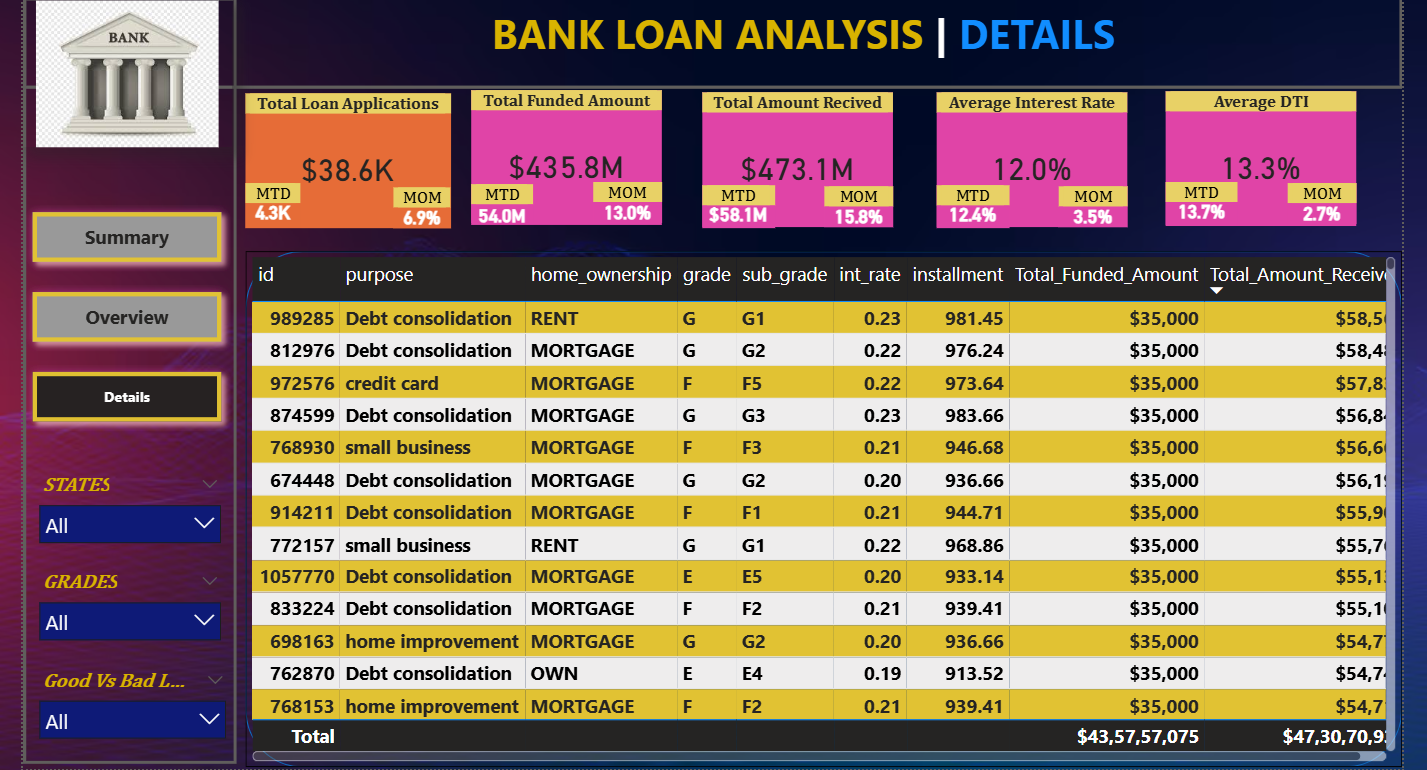

The dashboard page shown, as its layout file describes it:
{"tool":"powerbi","page":{"name":"Details","canvas":[1280,720],"ordinal":2},"visuals":[{"type":"actionButton","box":[0,0,1280,88.9],"z":0},{"type":"actionButton","box":[0,4,198.4,711.4],"z":1000},{"type":"textbox","box":[389,7,671,60],"z":2000},{"type":"card","title":"Total Loan Applications","fields":{"Values":["Good_Loan_%.Total_Loan_Applications"]},"box":[206.4,93.2,190.4,125.2],"z":3000},{"type":"card","title":"MTD","fields":{"Values":["Good_Loan_%.MTD_Loan_App"]},"box":[206.4,176.3,51.1,42.1],"z":4000},{"type":"card","title":"MOM","fields":{"Values":["Good_Loan_%.MOM_Loan_Applications"]},"box":[343.7,180.4,53.1,38.1],"z":5000},{"type":"card","title":"Total Funded Amount","fields":{"Values":["Good_Loan_%.Total_Funded_Amount"]},"box":[416,90,177,125],"z":6000},{"type":"card","title":"MTD","fields":{"Values":["Good_Loan_%.MTD_Funded_Amount"]},"box":[415.8,177.4,57.1,36.1],"z":7000},{"type":"card","title":"MOM","fields":{"Values":["Good_Loan_%.MOM_Total Funded_Amount"]},"box":[529,175,64,38],"z":8000},{"type":"card","title":"Total Amount Recived","fields":{"Values":["Good_Loan_%.Total_Amount_Received"]},"box":[630,92,177,125],"z":9000},{"type":"card","title":"MTD","fields":{"Values":["Good_Loan_%.MTD_Total_Amount_Recieved"]},"box":[630.2,178.4,67.1,40.1],"z":10000},{"type":"card","title":"MOM","fields":{"Values":["Good_Loan_%.MOM_Total_Amount_Recieved"]},"box":[743,179,64,38],"z":11000},{"type":"card","title":"Average Interest Rate","fields":{"Values":["Good_Loan_%.Average_interest_rate"]},"box":[848,92,177,125],"z":12000},{"type":"card","title":"MTD","fields":{"Values":["Good_Loan_%.MTD_Average_int_rate"]},"box":[847.7,178.4,67.1,40.1],"z":13000},{"type":"card","title":"MOM","fields":{"Values":["Good_Loan_%.MOM AVG int rate"]},"box":[961,179,64,38],"z":14000},{"type":"card","title":"Average DTI","fields":{"Values":["Good_Loan_%.Avarage_DTI"]},"box":[1060,91,177,125],"z":15000},{"type":"card","title":"MTD","fields":{"Values":["Good_Loan_%.MTD _AVARAGE_DTI"]},"box":[1060,175,67,40],"z":16000},{"type":"card","title":"MOM","fields":{"Values":["Good_Loan_%.MOM AVG DTI"]},"box":[1173,176,64,38],"z":17000},{"type":"shape","box":[206.4,239.5,1073.1,478.9],"z":18000},{"type":"slicer","fields":{"Values":["financial_loan.address_state"]},"box":[5,441.9,188.4,75.1],"z":19000},{"type":"slicer","fields":{"Values":["financial_loan.grade"]},"box":[5,532.1,188.4,75.1],"z":20000},{"type":"slicer","fields":{"Values":["financial_loan.Good Vs Bad Loan"]},"box":[5,623.2,193.4,79.2],"z":21000},{"type":"tableEx","fields":{"Values":["financial_loan.id","financial_loan.purpose","financial_loan.home_ownership","financial_loan.grade","financial_loan.sub_grade","financial_loan.int_rate","financial_loan.installment","Good_Loan_%.Total_Funded_Amount","Good_Loan_%.Total_Amount_Received"]},"box":[206.4,239.5,1073.1,478.9],"z":22000},{"type":"pageNavigator","box":[0,194.4,193.4,212.4],"z":23000},{"type":"image","box":[0,7,193.4,136.3],"z":24000}]}

Visuals, with their boxes on the page's 1280x720 design canvas (x1, y1, x2, y2). These are canvas units, not pixel positions in the 1427x770 screenshot, which may show the page scaled, cropped or inside an application window:
actionButton: [left=0, top=0, right=1280, bottom=89]
actionButton: [left=0, top=4, right=198, bottom=715]
textbox: [left=389, top=7, right=1060, bottom=67]
"Total Loan Applications" card: [left=206, top=93, right=397, bottom=218]
"MTD" card: [left=206, top=176, right=258, bottom=218]
"MOM" card: [left=344, top=180, right=397, bottom=218]
"Total Funded Amount" card: [left=416, top=90, right=593, bottom=215]
"MTD" card: [left=416, top=177, right=473, bottom=214]
"MOM" card: [left=529, top=175, right=593, bottom=213]
"Total Amount Recived" card: [left=630, top=92, right=807, bottom=217]
"MTD" card: [left=630, top=178, right=697, bottom=218]
"MOM" card: [left=743, top=179, right=807, bottom=217]
"Average Interest Rate" card: [left=848, top=92, right=1025, bottom=217]
"MTD" card: [left=848, top=178, right=915, bottom=218]
"MOM" card: [left=961, top=179, right=1025, bottom=217]
"Average DTI" card: [left=1060, top=91, right=1237, bottom=216]
"MTD" card: [left=1060, top=175, right=1127, bottom=215]
"MOM" card: [left=1173, top=176, right=1237, bottom=214]
shape: [left=206, top=240, right=1280, bottom=718]
slicer - financial_loan.address_state: [left=5, top=442, right=193, bottom=517]
slicer - financial_loan.grade: [left=5, top=532, right=193, bottom=607]
slicer - financial_loan.Good Vs Bad Loan: [left=5, top=623, right=198, bottom=702]
tableEx - financial_loan.id x financial_loan.purpose: [left=206, top=240, right=1280, bottom=718]
pageNavigator: [left=0, top=194, right=193, bottom=407]
image: [left=0, top=7, right=193, bottom=143]
